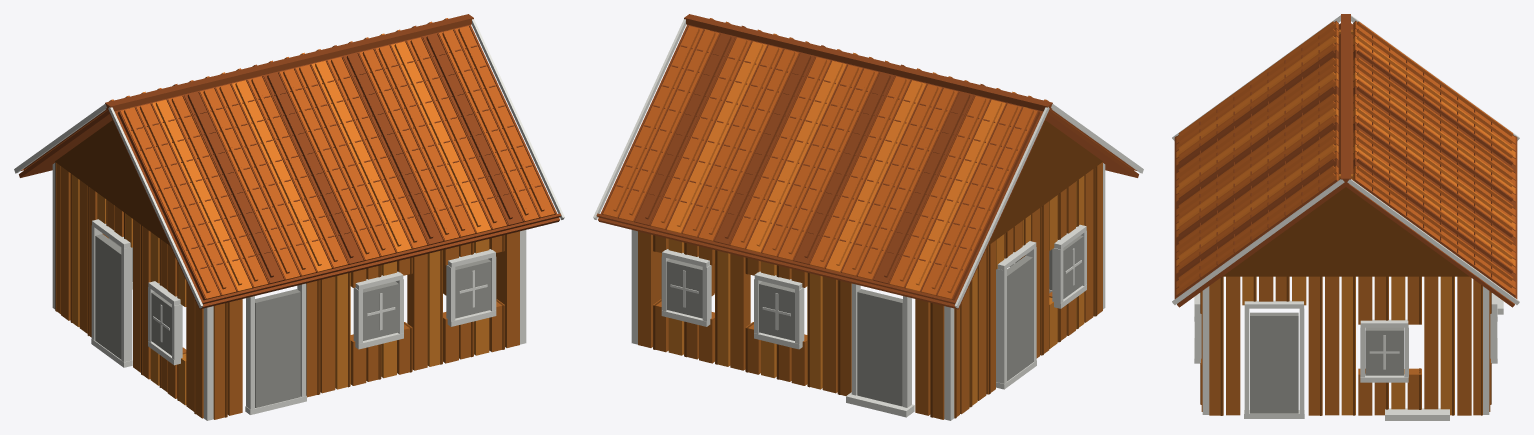
Rendered from job_0024_miniature-brick-lumber-house.glb.
3 renders of one model, left to right at view 1: azimuth 30°, elevation 25°; view 2: azimuth 150°, elevation 25°; view 3: azimuth 270°, elevation 25°, orthographic. The views are drawn at different scales.
Parts seen in each view (by area): view 1: rear_roof_roofstone_column_merged, rear_wall_stone_merged, left_wall_stone_merged, rear_roof_roofstone_rib_merged, rear_wall_door_0_recess, left_gable_triangle, tight_dark_roof_ridge_cap, rear_roof_under_roof_plane, rear_roof_roofstone_segment_seam_merged, left_wall_door_1_recess, rear_wall_window_2_recess, rear_wall_window_1_recess (+16 smaller); view 2: front_roof_roofstone_column_merged, front_wall_stone_merged, left_wall_stone_merged, front_roof_roofstone_rib_merged, front_wall_door_0_recess, left_gable_triangle, tight_dark_roof_ridge_cap, front_roof_under_roof_plane, front_roof_roofstone_segment_seam_merged, left_wall_door_1_recess, front_wall_window_2_recess, front_wall_window_1_recess (+15 smaller); view 3: front_roof_roofstone_column_merged, rear_roof_roofstone_column_merged, right_wall_stone_merged, right_gable_triangle, front_roof_roofstone_rib_merged, rear_roof_roofstone_rib_merged, right_wall_door_0_recess, right_wall_window_1_recess, tight_dark_roof_ridge_cap, front_roof_under_roof_plane, rear_roof_under_roof_plane, front_roof_roofstone_segment_seam_merged (+16 smaller).
Boxes of the visible parts, <box> form: rear_roof_roofstone_column_merged: <box>117,25,556,300</box>; rear_wall_stone_merged: <box>213,231,519,419</box>; left_wall_stone_merged: <box>55,162,203,418</box>; rear_roof_roofstone_rib_merged: <box>124,28,542,286</box>; rear_wall_door_0_recess: <box>255,289,300,407</box>; left_gable_triangle: <box>55,120,169,245</box>; tight_dark_roof_ridge_cap: <box>105,14,473,111</box>; rear_roof_under_roof_plane: <box>109,24,559,309</box>; rear_roof_roofstone_segment_seam_merged: <box>131,45,541,270</box>; left_wall_door_1_recess: <box>95,234,121,359</box>; rear_wall_window_2_recess: <box>455,259,491,318</box>; rear_wall_window_1_recess: <box>363,281,398,340</box>; front_roof_roofstone_column_merged: <box>601,25,1040,300</box>; front_wall_stone_merged: <box>638,231,944,419</box>; left_wall_stone_merged: <box>954,162,1102,418</box>; front_roof_roofstone_rib_merged: <box>615,28,1033,286</box>; front_wall_door_0_recess: <box>857,289,902,406</box>; left_gable_triangle: <box>988,120,1102,245</box>; tight_dark_roof_ridge_cap: <box>684,14,1052,111</box>; front_roof_under_roof_plane: <box>598,24,1048,309</box>; front_roof_roofstone_segment_seam_merged: <box>616,45,1026,270</box>; left_wall_door_1_recess: <box>1007,256,1032,381</box>; front_wall_window_2_recess: <box>666,259,702,318</box>; front_wall_window_1_recess: <box>759,281,794,340</box>; front_roof_roofstone_column_merged: <box>1353,21,1515,297</box>; rear_roof_roofstone_column_merged: <box>1176,21,1338,297</box>; right_wall_stone_merged: <box>1209,276,1482,415</box>; right_gable_triangle: <box>1222,187,1469,276</box>; front_roof_roofstone_rib_merged: <box>1356,21,1509,282</box>; rear_roof_roofstone_rib_merged: <box>1182,21,1335,282</box>; right_wall_door_0_recess: <box>1250,312,1298,413</box>; right_wall_window_1_recess: <box>1365,327,1403,375</box>; tight_dark_roof_ridge_cap: <box>1341,14,1350,184</box>; front_roof_under_roof_plane: <box>1345,23,1514,307</box>; rear_roof_under_roof_plane: <box>1177,23,1346,307</box>; front_roof_roofstone_segment_seam_merged: <box>1372,35,1492,277</box>.
Size of the model in its own units: 708 by 494 by 631.
